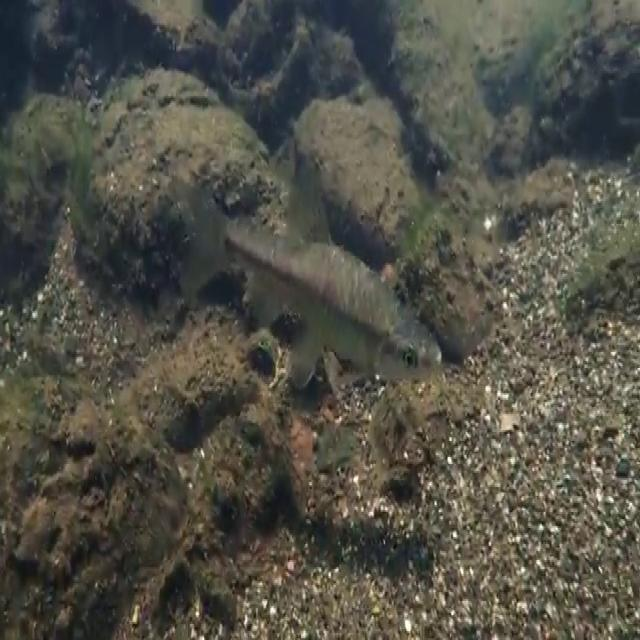Cakil Baligi: (176, 164, 444, 390)
